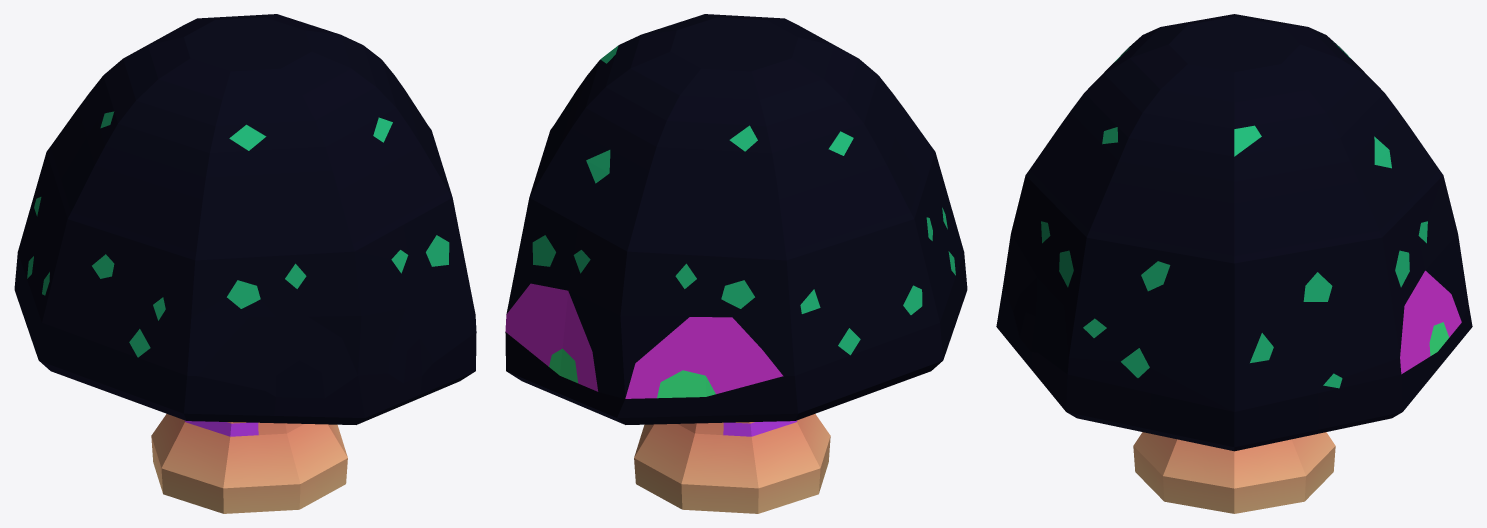
The model's file is Garden_CapShroom03.fbx.
The picture shows the model from 3 angles, left to right: view 1: azimuth 30°, elevation 25°; view 2: azimuth 150°, elevation 25°; view 3: azimuth 270°, elevation 25°; orthographic projection.
Parts seen in each view (by area): view 1: Cylinder.324; view 2: Cylinder.324; view 3: Cylinder.324.
Part boxes in pixels (x1,y1,x2,y2): Cylinder.324: (14, 14, 476, 513); Cylinder.324: (505, 14, 967, 513); Cylinder.324: (996, 14, 1472, 513).
Bounding box in the file's own units: 78.72 × 79.08 × 78.44.
